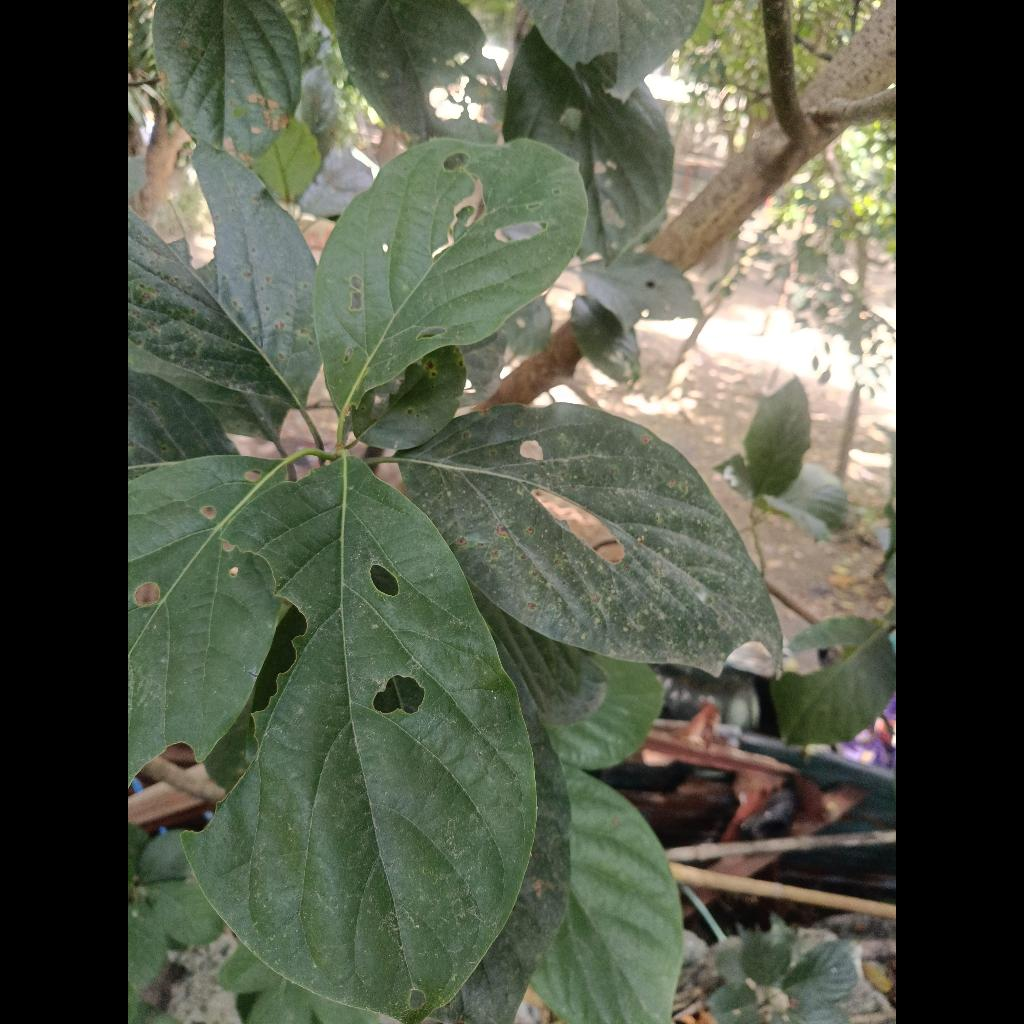plaga: (186, 455, 536, 1024), (399, 404, 781, 674), (314, 139, 586, 406)
